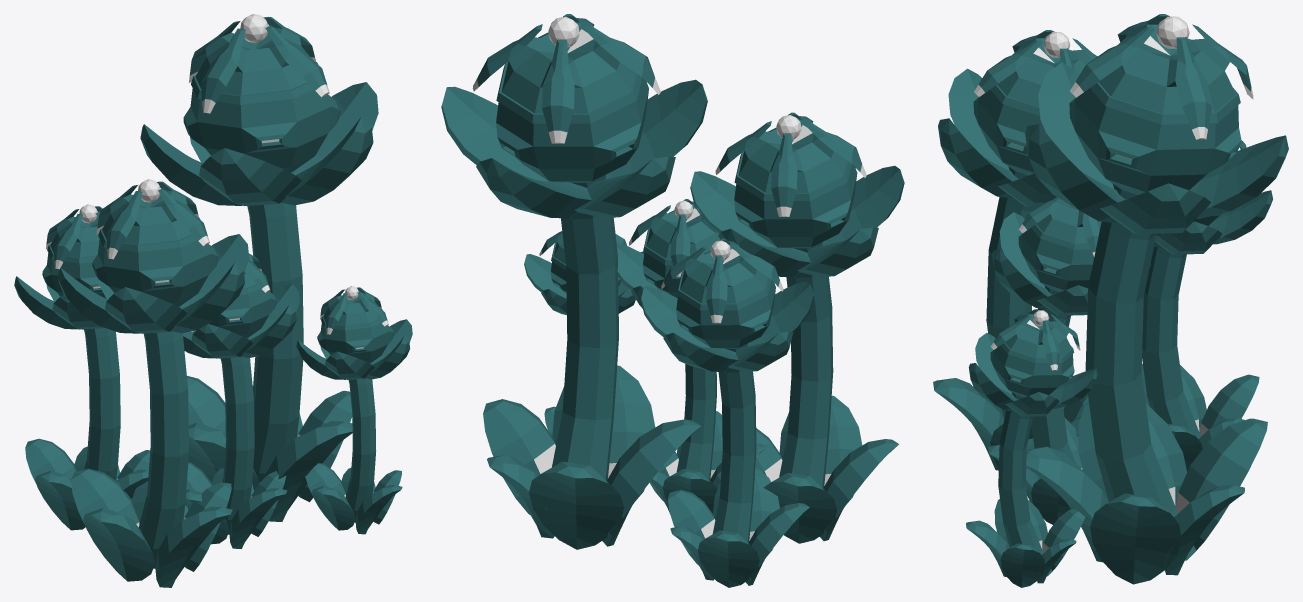
Rendered from ResourceBeforeFlower1.fbx.
The picture shows the model from 3 angles, left to right: view 1: azimuth 30°, elevation 25°; view 2: azimuth 150°, elevation 25°; view 3: azimuth 270°, elevation 25°; orthographic projection. The views are drawn at different scales.
Parts seen in each view (by area): view 1: Flower1; view 2: Flower1; view 3: Flower1.
Part boxes in pixels (bbox=[...]): Flower1: bbox=[14, 14, 412, 587]; Flower1: bbox=[441, 14, 904, 587]; Flower1: bbox=[933, 14, 1288, 587].
Size of the model in its own units: 99.07 by 130 by 76.37.
